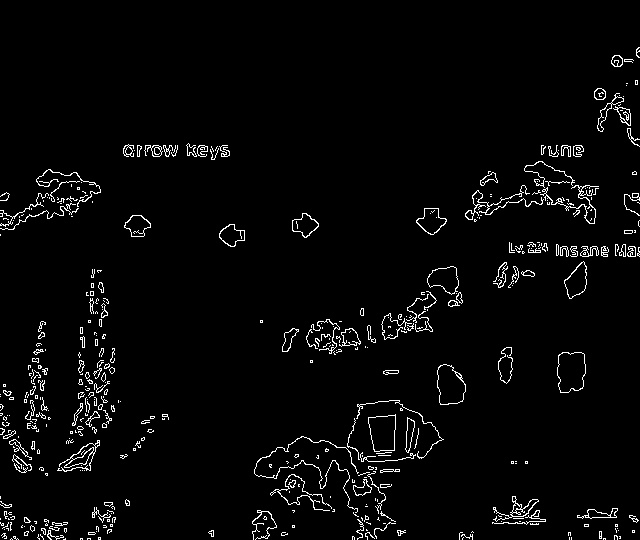rune_box: (62, 181, 484, 280)
